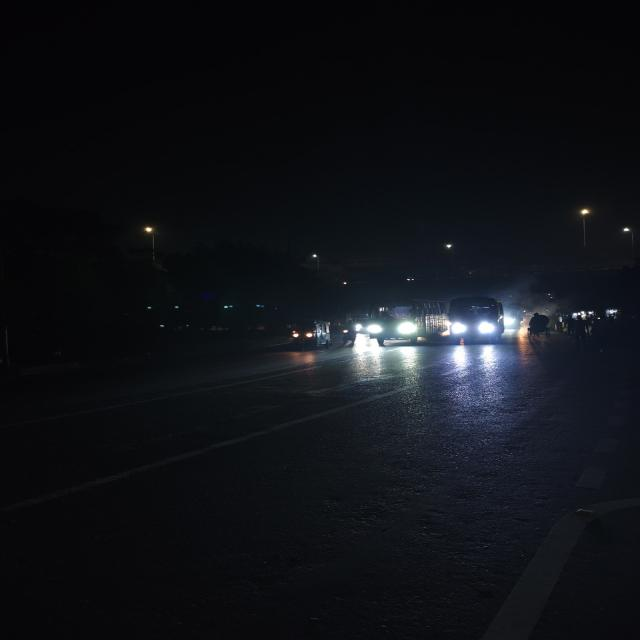bus: (364, 300, 448, 347), (447, 296, 509, 346)
cng: (286, 319, 334, 351)
pedestrian: (551, 312, 567, 334)
rickshaw: (526, 311, 552, 341)
